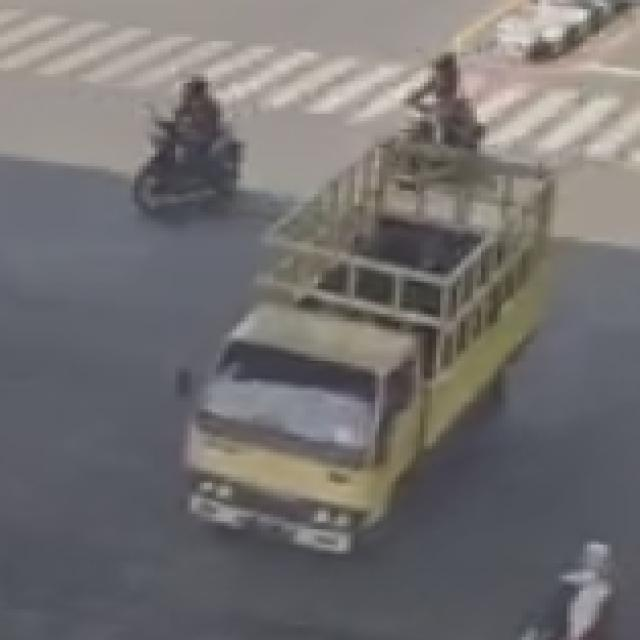motorbike: (107, 62, 246, 216), (388, 48, 511, 161)
truck: (134, 128, 581, 579)
